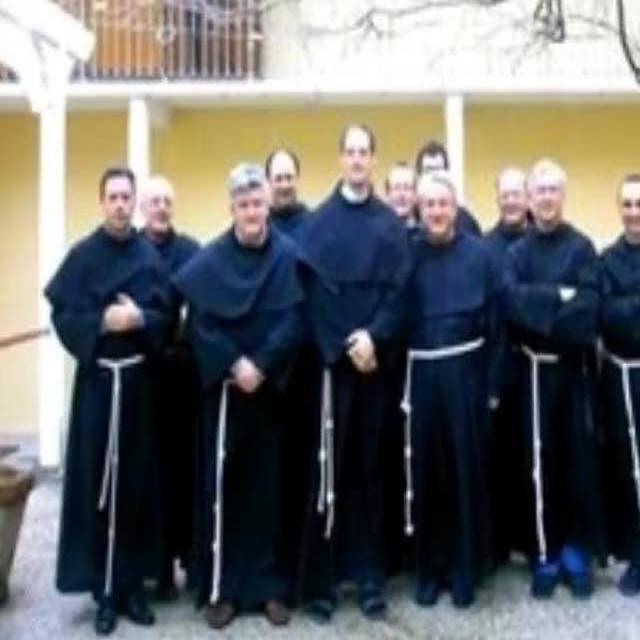other: (38, 103, 613, 187)
